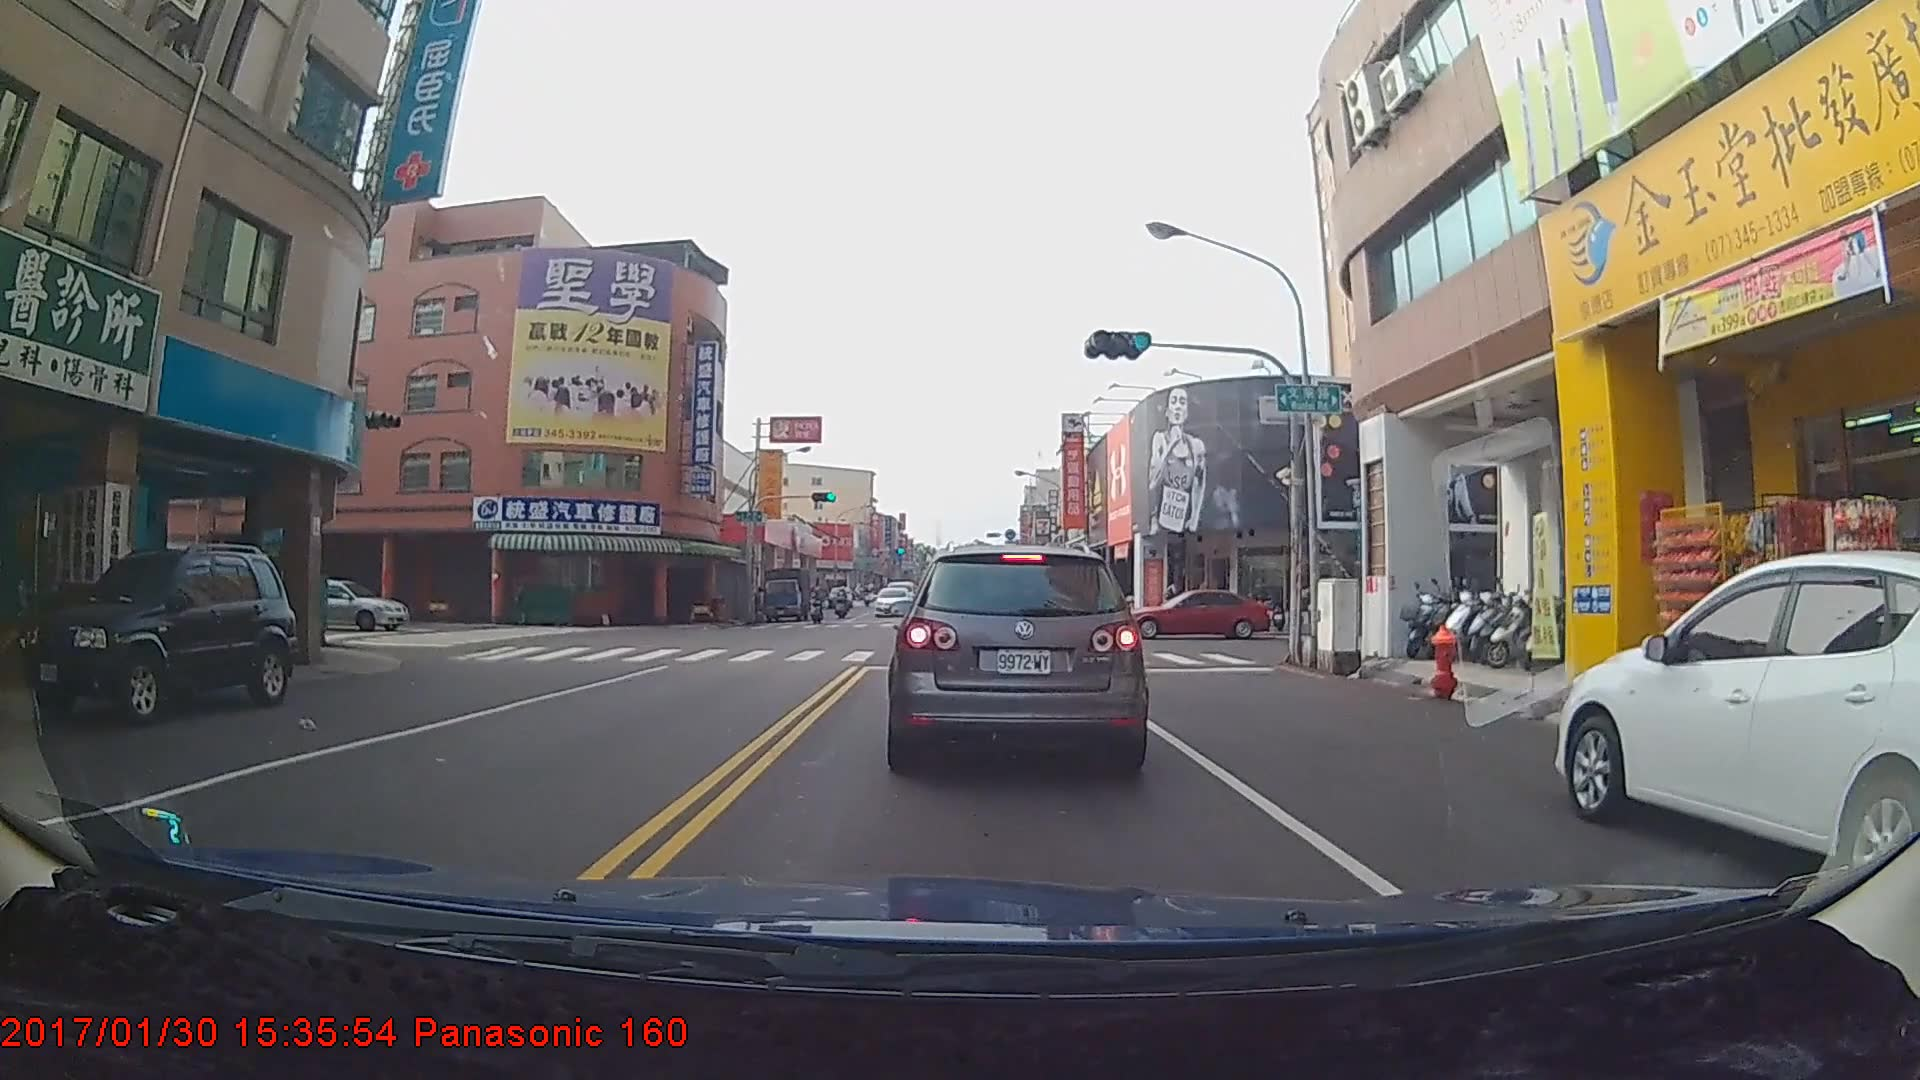rider: (802, 588, 829, 629), (834, 591, 855, 626)
vehicle: (1556, 550, 1920, 917), (890, 540, 1141, 770), (22, 543, 296, 728), (1117, 584, 1270, 636), (271, 575, 412, 628), (760, 569, 815, 626), (871, 586, 911, 619)
